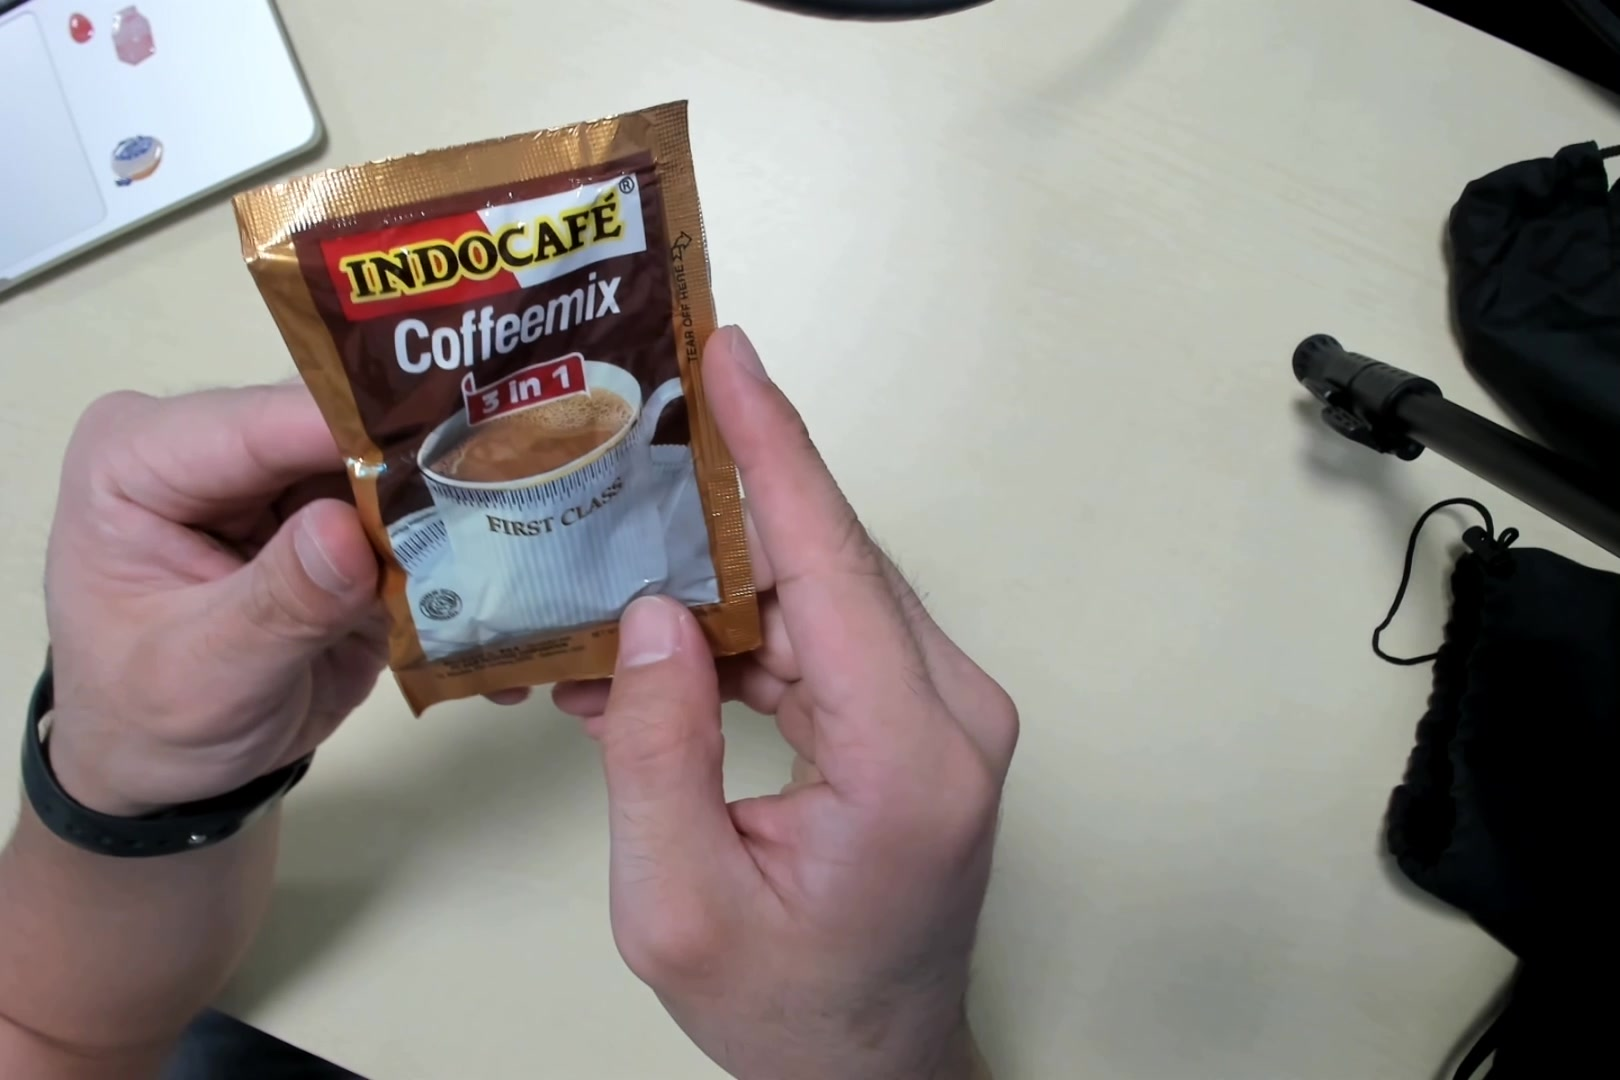Coffee(Powder)_0-99g_NonHalal_NonHealthy: (235, 89, 765, 721)
